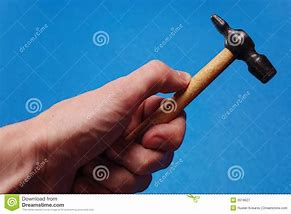hammer: (100, 12, 279, 170)
